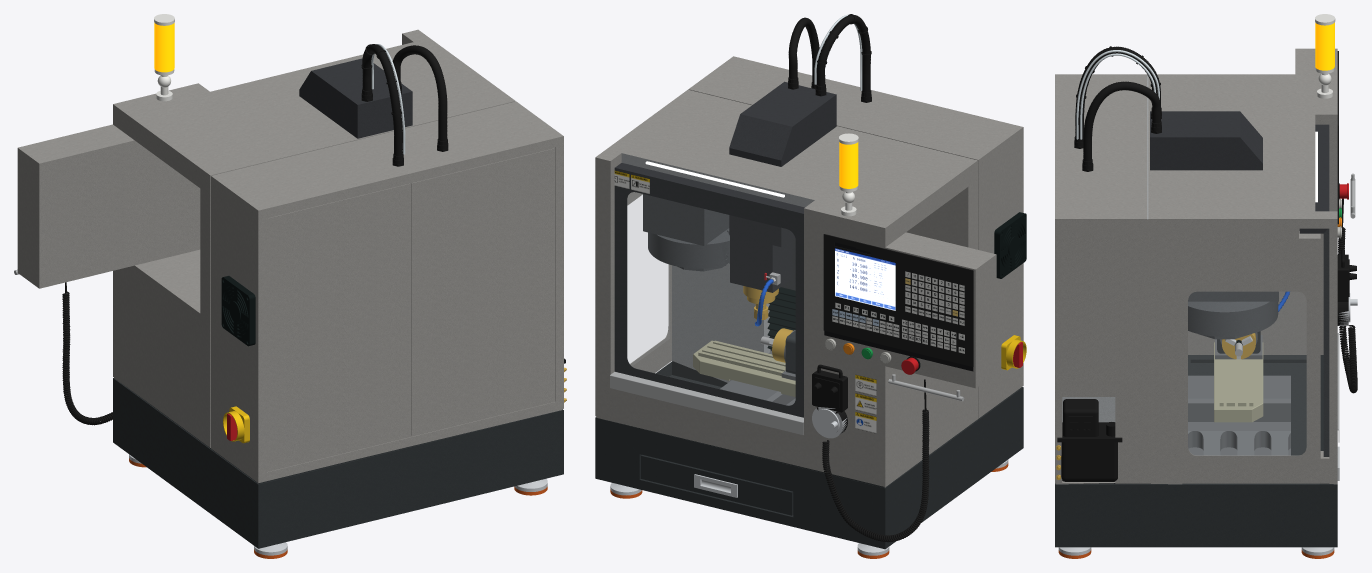
Rendered from mcs-atc.glb.
3 renders of one model, left to right at view 1: azimuth 30°, elevation 25°; view 2: azimuth 150°, elevation 25°; view 3: azimuth 270°, elevation 25°, orthographic. The views are drawn at different scales.
Visible parts, largest first — view 1: paint_light, paint_base, paint_head, conduit_black_plastic, black_matte, black_plastic, lamp_amber; view 2: paint_light, paint_base, paint_head, panel_black, paint_frame, paint_interior, paint_atc, glass, keypad, stainless, black_plastic, table_steel (+11 smaller); view 3: paint_light, paint_base, paint_head, black_plastic, steel_dark, paint_atc, table_steel, conduit_black_plastic, paint_frame, chrome, pneumatic_glass, lamp_amber (+4 smaller).
Boxes of the visible parts, x1=… form: paint_light: x1=17, y1=29, x2=563, y2=483; paint_base: x1=113, y1=378, x2=563, y2=548; paint_head: x1=299, y1=58, x2=412, y2=138; conduit_black_plastic: x1=361, y1=44, x2=448, y2=166; black_matte: x1=221, y1=276, x2=255, y2=346; black_plastic: x1=62, y1=44, x2=565, y2=425; lamp_amber: x1=154, y1=23, x2=174, y2=72; paint_light: x1=595, y1=56, x2=1023, y2=487; paint_base: x1=595, y1=361, x2=1023, y2=549; paint_head: x1=615, y1=81, x2=836, y2=292; panel_black: x1=823, y1=234, x2=973, y2=366; paint_frame: x1=614, y1=168, x2=803, y2=417; paint_interior: x1=621, y1=153, x2=814, y2=382; paint_atc: x1=643, y1=194, x2=795, y2=351; glass: x1=627, y1=192, x2=669, y2=365; keypad: x1=824, y1=242, x2=973, y2=371; stainless: x1=610, y1=272, x2=964, y2=434; black_plastic: x1=812, y1=14, x2=929, y2=542; table_steel: x1=693, y1=340, x2=795, y2=396; paint_light: x1=1055, y1=48, x2=1337, y2=484; paint_base: x1=1055, y1=355, x2=1337, y2=547; paint_head: x1=1150, y1=111, x2=1329, y2=233; black_plastic: x1=1057, y1=46, x2=1357, y2=481; steel_dark: x1=1188, y1=332, x2=1290, y2=455; paint_atc: x1=1188, y1=291, x2=1278, y2=339; table_steel: x1=1214, y1=342, x2=1263, y2=422; conduit_black_plastic: x1=1074, y1=46, x2=1161, y2=171; paint_frame: x1=1323, y1=228, x2=1329, y2=456; chrome: x1=1058, y1=293, x2=1357, y2=555; pneumatic_glass: x1=1076, y1=50, x2=1159, y2=139; lamp_amber: x1=1315, y1=22, x2=1334, y2=70.
Bounding box in the file's own units: 1.25 × 1.35 × 0.8353.
32 materials, 10 textured.
